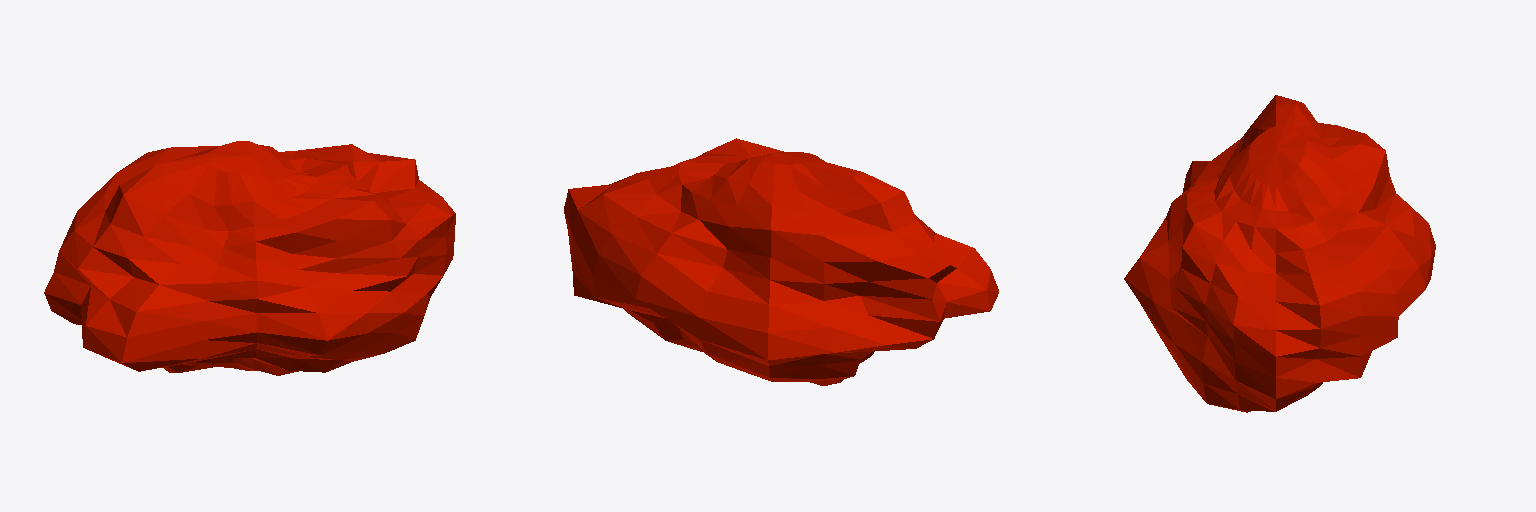
Rendered from asteroid3.obj.
3 renders of one model, left to right at view 1: azimuth 30°, elevation 25°; view 2: azimuth 150°, elevation 25°; view 3: azimuth 270°, elevation 25°, orthographic.
Parts seen in each view (by area): view 1: Sphere_Sphere.001; view 2: Sphere_Sphere.001; view 3: Sphere_Sphere.001.
Part boxes in pixels (bbox=[...]): Sphere_Sphere.001: bbox=[44, 141, 455, 375]; Sphere_Sphere.001: bbox=[564, 138, 998, 385]; Sphere_Sphere.001: bbox=[1124, 95, 1435, 412].
Bounding box in the file's own units: 4.37 × 2.27 × 2.99.